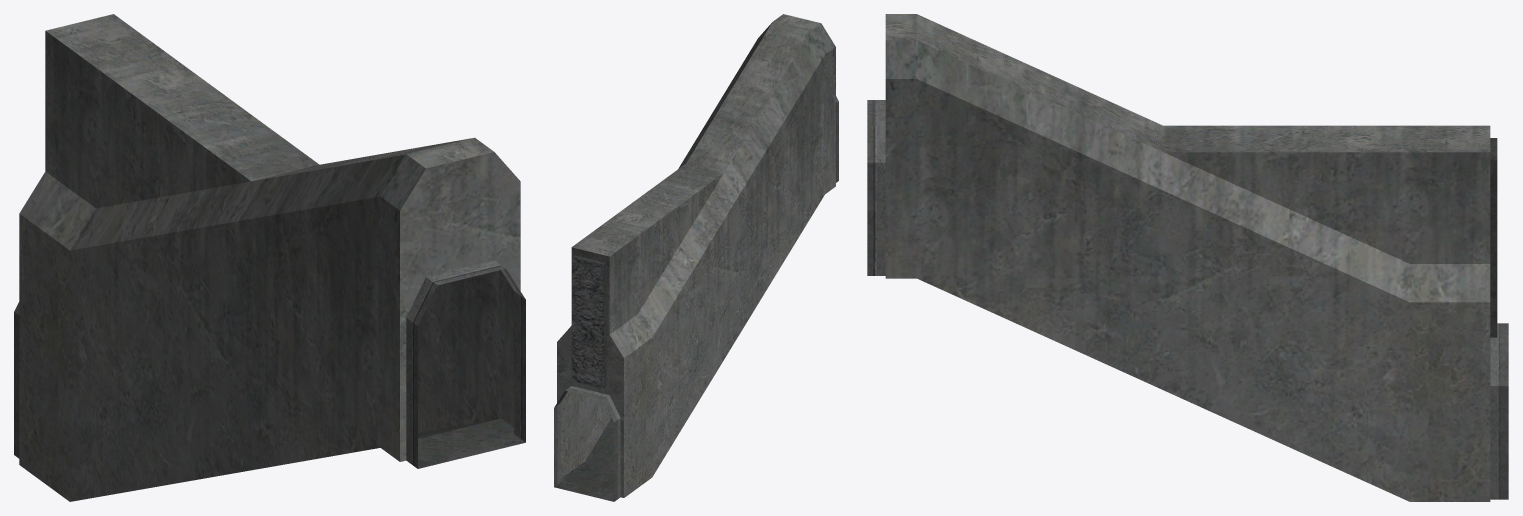
Rendered from thm_yavn_jedi_enclave_dark_r15_chamberramp_mesh.fbx.
3 views of the same model, side by side, from view 1: azimuth 30°, elevation 25°; view 2: azimuth 150°, elevation 25°; view 3: azimuth 270°, elevation 25° (orthographic). The views are drawn at different scales.
Visible parts, largest first — view 1: mesh_node; view 2: mesh_node; view 3: mesh_node.
Part boxes in pixels (x1,y1,x2,y2): mesh_node: (14,14,525,501); mesh_node: (554,14,838,501); mesh_node: (867,14,1508,501).
Bounding box in the file's own units: 3.53 × 15.9 × 20.47.
